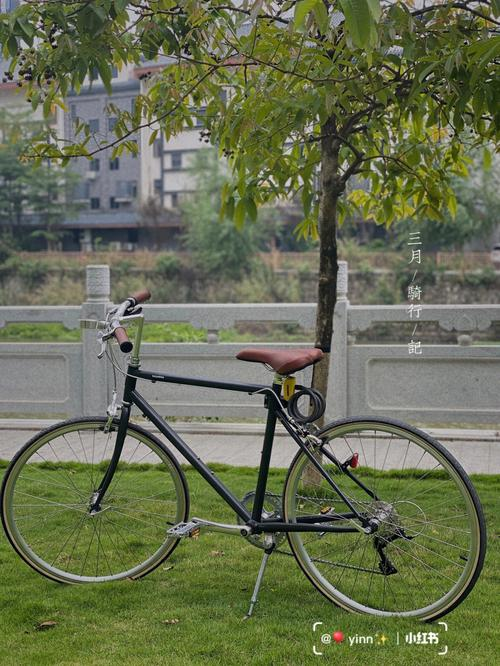单车: (1, 261, 492, 628)
